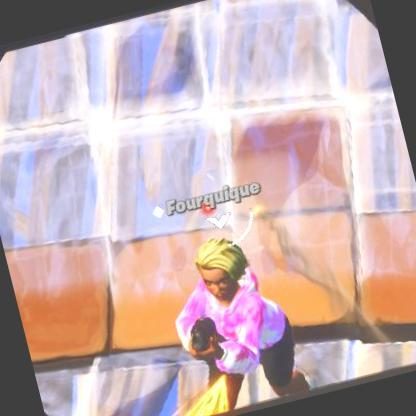person: (159, 226, 307, 416)
